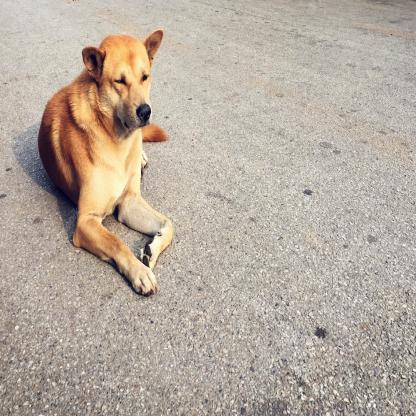dog: (44, 23, 167, 279)
